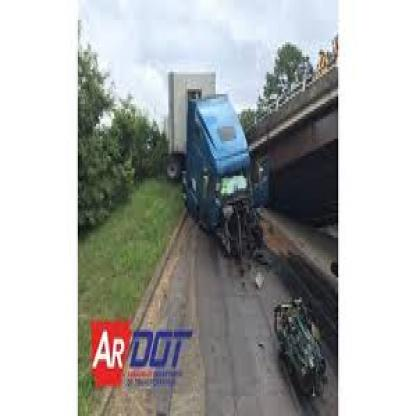accident: (171, 58, 337, 406)
